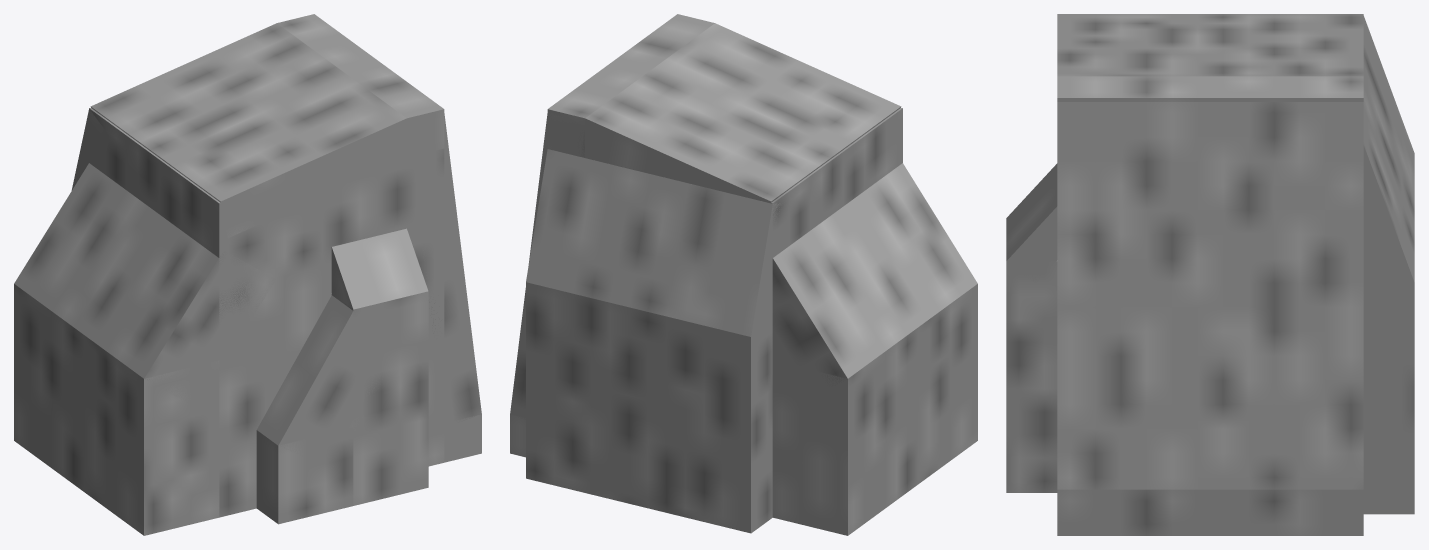
File: stone.fbx
3 renders of one model, left to right at view 1: azimuth 30°, elevation 25°; view 2: azimuth 150°, elevation 25°; view 3: azimuth 270°, elevation 25°, orthographic. The views are drawn at different scales.
Parts seen in each view (by area): view 1: cube, cube_10, cube_3, cube_4, cube_5, cube_7, cube_6, cube_12, cube_9, cube_8, cube_11, cube_2; view 2: cube_1, cube_10, cube_2, cube_3, cube_4, cube, cube_9, cube_12, cube_11; view 3: cube_12, cube_10, cube_11, cube_5, cube_1, cube_2, cube_9, cube_8.
Part boxes in pixels (left/top/right/bottom): cube: left=89, top=108, right=444, bottom=517; cube_10: left=90, top=23, right=413, bottom=237; cube_3: left=14, top=284, right=219, bottom=535; cube_4: left=14, top=163, right=275, bottom=407; cube_5: left=331, top=291, right=428, bottom=505; cube_7: left=257, top=295, right=400, bottom=456; cube_6: left=256, top=427, right=353, bottom=524; cube_12: left=407, top=113, right=481, bottom=427; cube_9: left=277, top=14, right=444, bottom=156; cube_8: left=331, top=228, right=428, bottom=309; cube_11: left=444, top=414, right=481, bottom=462; cube_2: left=71, top=109, right=109, bottom=190; cube_1: left=526, top=282, right=772, bottom=533; cube_10: left=579, top=23, right=901, bottom=203; cube_2: left=526, top=149, right=780, bottom=336; cube_3: left=772, top=284, right=977, bottom=535; cube_4: left=772, top=163, right=977, bottom=406; cube: left=548, top=108, right=902, bottom=257; cube_9: left=547, top=14, right=714, bottom=157; cube_12: left=510, top=112, right=584, bottom=419; cube_11: left=510, top=414, right=525, bottom=457; cube_12: left=1057, top=102, right=1363, bottom=489; cube_10: left=1057, top=14, right=1363, bottom=76; cube_11: left=1057, top=489, right=1363, bottom=535; cube_5: left=1006, top=260, right=1057, bottom=492; cube_1: left=1363, top=283, right=1414, bottom=514; cube_2: left=1363, top=16, right=1414, bottom=296; cube_9: left=1057, top=76, right=1363, bottom=101; cube_8: left=1006, top=163, right=1057, bottom=281.
Bounding box in the file's own units: 56.25 × 56.25 × 50.
1 material, 1 textured.
